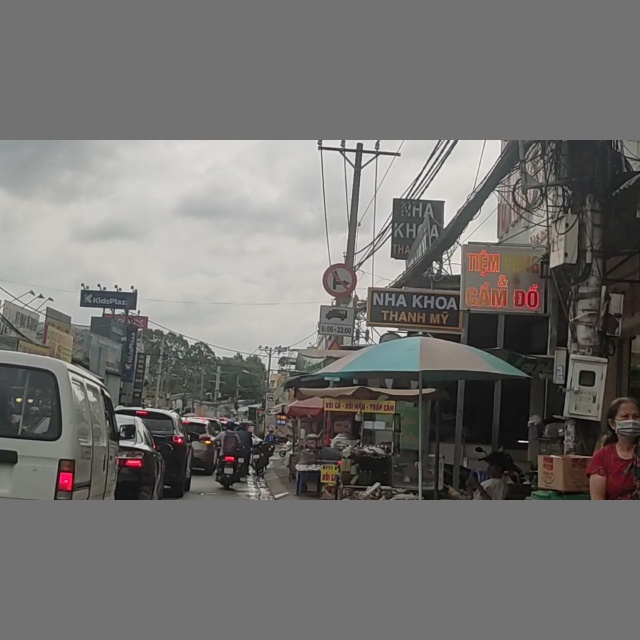P.139: (324, 264, 356, 297)
S.505a*Xe tai: (319, 306, 353, 337)
